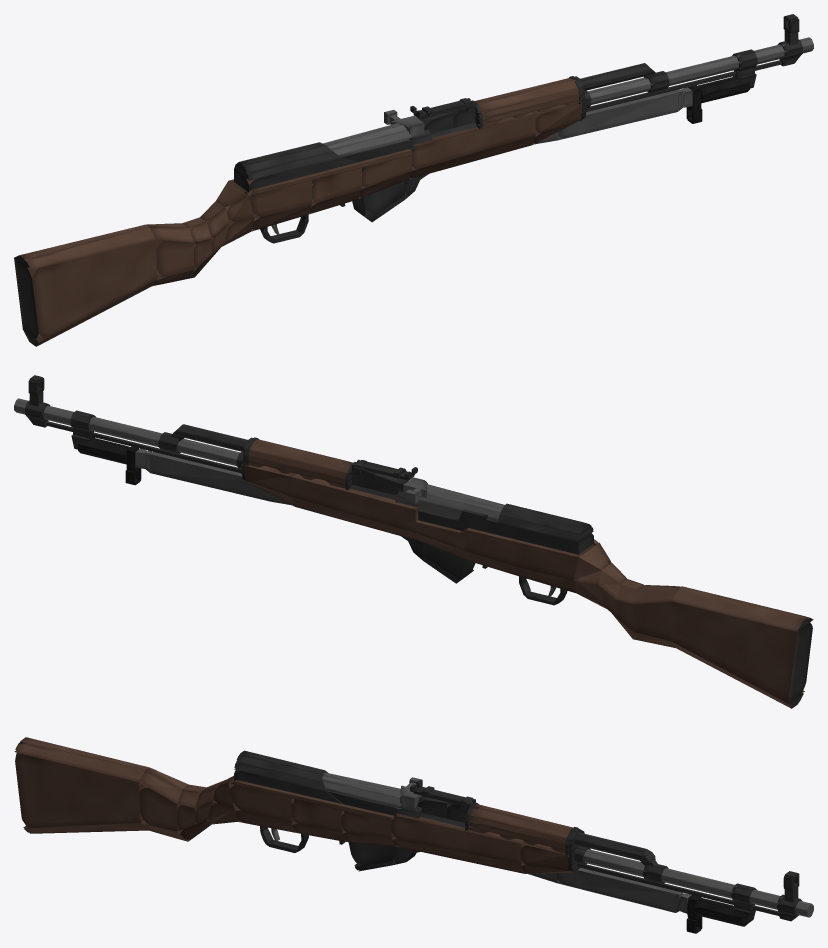
Rendered from sks.obj.
3 views of the same model, one above another, from view 1: azimuth 30°, elevation 25°; view 2: azimuth 150°, elevation 25°; view 3: azimuth 330°, elevation 25° (orthographic).
Visible parts, largest first — view 1: gunModel2, gunModel22, gunModel118, gunModel3, gunModel13, gunModel83, gunModel28, gunModel5, gunModel44, gunModel49, gunModel1, gunModel15 (+18 smaller); view 2: gunModel2, gunModel22, gunModel118, gunModel3, gunModel13, gunModel83, gunModel44, gunModel1, gunModel28, gunModel5, gunModel49, gunModel24 (+16 smaller); view 3: gunModel2, gunModel22, gunModel118, gunModel3, gunModel83, gunModel13, gunModel28, gunModel5, gunModel49, gunModel1, gunModel24, gunModel15 (+25 smaller).
Part boxes in pixels (x1,y1,x2,y2): gunModel2: (14,239,157,341); gunModel22: (408,112,535,170); gunModel118: (558,90,678,140); gunModel3: (14,224,155,269); gunModel13: (229,179,311,218); gunModel83: (588,37,813,98); gunModel28: (474,77,578,112); gunModel5: (156,239,193,279); gunModel44: (234,158,367,198); gunModel49: (235,142,333,173); gunModel1: (312,168,361,204); gunModel15: (247,149,411,195); gunModel2: (670,601,812,703); gunModel22: (292,473,419,532); gunModel118: (149,451,270,501); gunModel3: (672,586,813,631); gunModel13: (515,540,595,580); gunModel83: (14,398,240,459); gunModel44: (486,518,593,554); gunModel1: (465,528,517,566); gunModel28: (250,439,352,473); gunModel5: (633,601,671,640); gunModel49: (500,503,591,534); gunModel24: (292,497,418,540); gunModel2: (15,752,143,827); gunModel22: (391,813,526,863); gunModel118: (556,868,677,912); gunModel3: (14,737,148,782); gunModel83: (584,849,813,910); gunModel13: (230,779,294,822); gunModel28: (469,804,572,838); gunModel5: (139,784,179,831); gunModel49: (236,750,327,782); gunModel1: (291,800,344,831); gunModel24: (392,839,525,873); gunModel15: (229,780,394,822).
Bounding box in the file's own units: 26.8 × 4.64 × 1.43.
